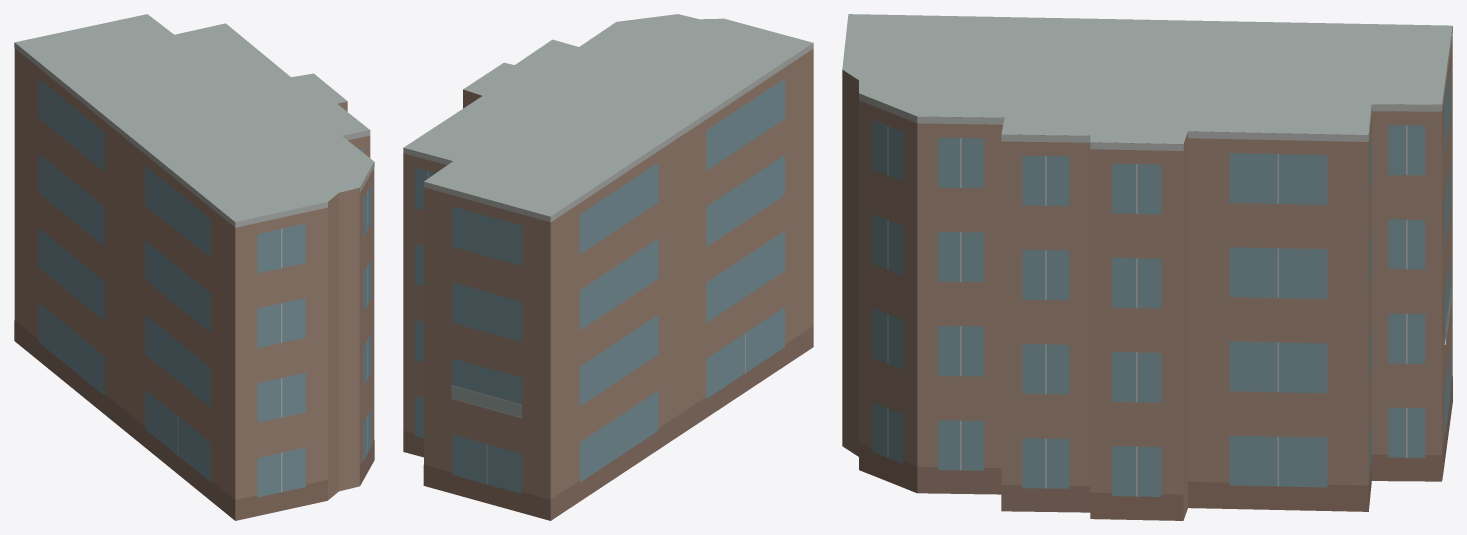
File: survey-upis-32474005.glb
3 views of the same model, side by side, from view 1: azimuth 30°, elevation 25°; view 2: azimuth 150°, elevation 25°; view 3: azimuth 270°, elevation 25° (orthographic). The views are drawn at different scales.
Visible parts, largest first — view 1: survey-upis-32474005.tmp; view 2: survey-upis-32474005.tmp; view 3: survey-upis-32474005.tmp.
Part boxes in pixels (x1=…): survey-upis-32474005.tmp: x1=14, y1=14, x2=374, y2=520; survey-upis-32474005.tmp: x1=403, y1=14, x2=813, y2=520; survey-upis-32474005.tmp: x1=842, y1=14, x2=1452, y2=520.
Size of the model in its own units: 9.75 by 13.15 by 19.32.
